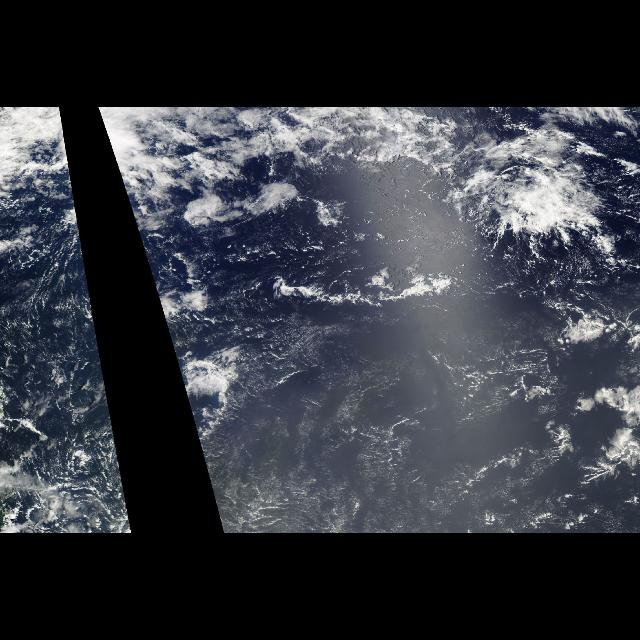Fish: (239, 270, 451, 322)
Gravel: (256, 316, 576, 510)
Sugar: (225, 311, 607, 533), (2, 244, 74, 446)
